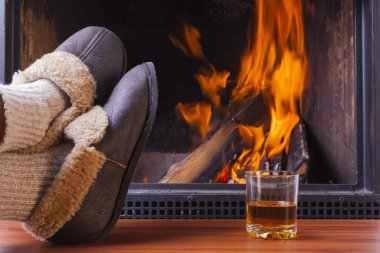fire: (241, 8, 311, 170), (168, 23, 230, 138)
